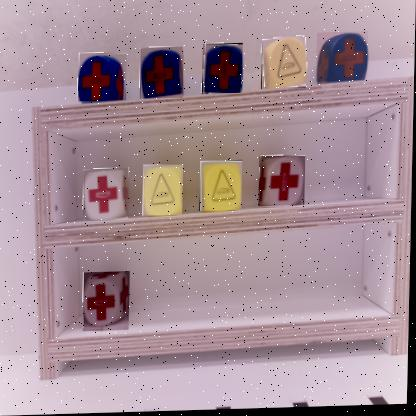CubeBlue: (317, 34, 370, 86), (79, 54, 129, 104), (141, 49, 186, 102), (203, 45, 245, 97)
CubeRed: (85, 273, 133, 334), (260, 158, 308, 210), (85, 170, 132, 223)
CubeYellow: (262, 39, 309, 93), (201, 162, 245, 214), (144, 166, 186, 219)
